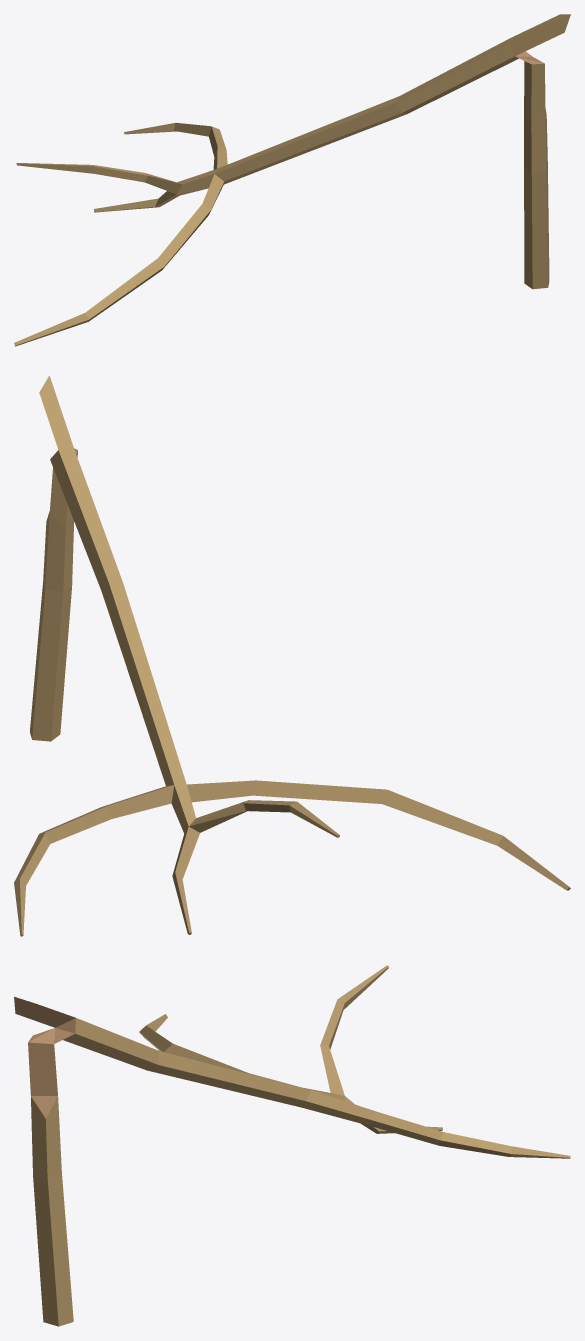
The model's file is Acacia_Tree_NoLeaves_crk_m_01.fbx.
3 views of the same model, one above another, from view 1: azimuth 30°, elevation 25°; view 2: azimuth 150°, elevation 25°; view 3: azimuth 270°, elevation 25° (orthographic). The views are drawn at different scales.
Parts seen in each view (by area): view 1: Acacia_Tree_NoLeaves_crk_m_01; view 2: Acacia_Tree_NoLeaves_crk_m_01; view 3: Acacia_Tree_NoLeaves_crk_m_01.
Boxes of the visible parts, <box> form: Acacia_Tree_NoLeaves_crk_m_01: <box>14,14,570,346</box>; Acacia_Tree_NoLeaves_crk_m_01: <box>14,375,570,936</box>; Acacia_Tree_NoLeaves_crk_m_01: <box>14,965,570,1326</box>.
Size of the model in its own units: 674 by 366 by 557.
